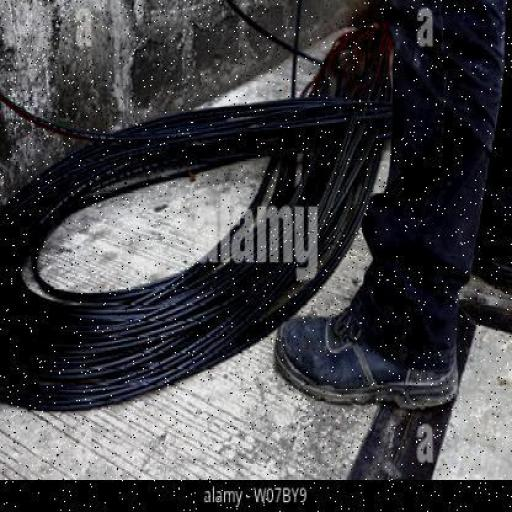safety_shoe: (272, 300, 457, 412)
